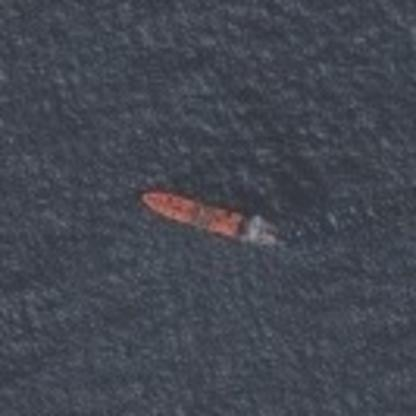ship: (130, 183, 295, 254)
